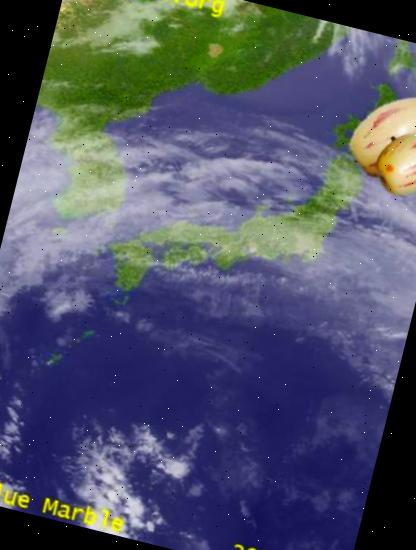Pepino: (336, 73, 416, 199), (363, 114, 416, 209)
